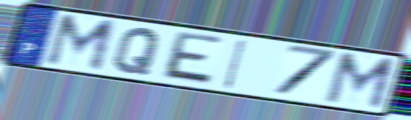7: (275, 43, 341, 101)
E: (157, 29, 226, 88)
I: (220, 37, 251, 91)
M: (41, 12, 119, 75), (320, 51, 399, 113)
Q: (111, 26, 164, 77)
